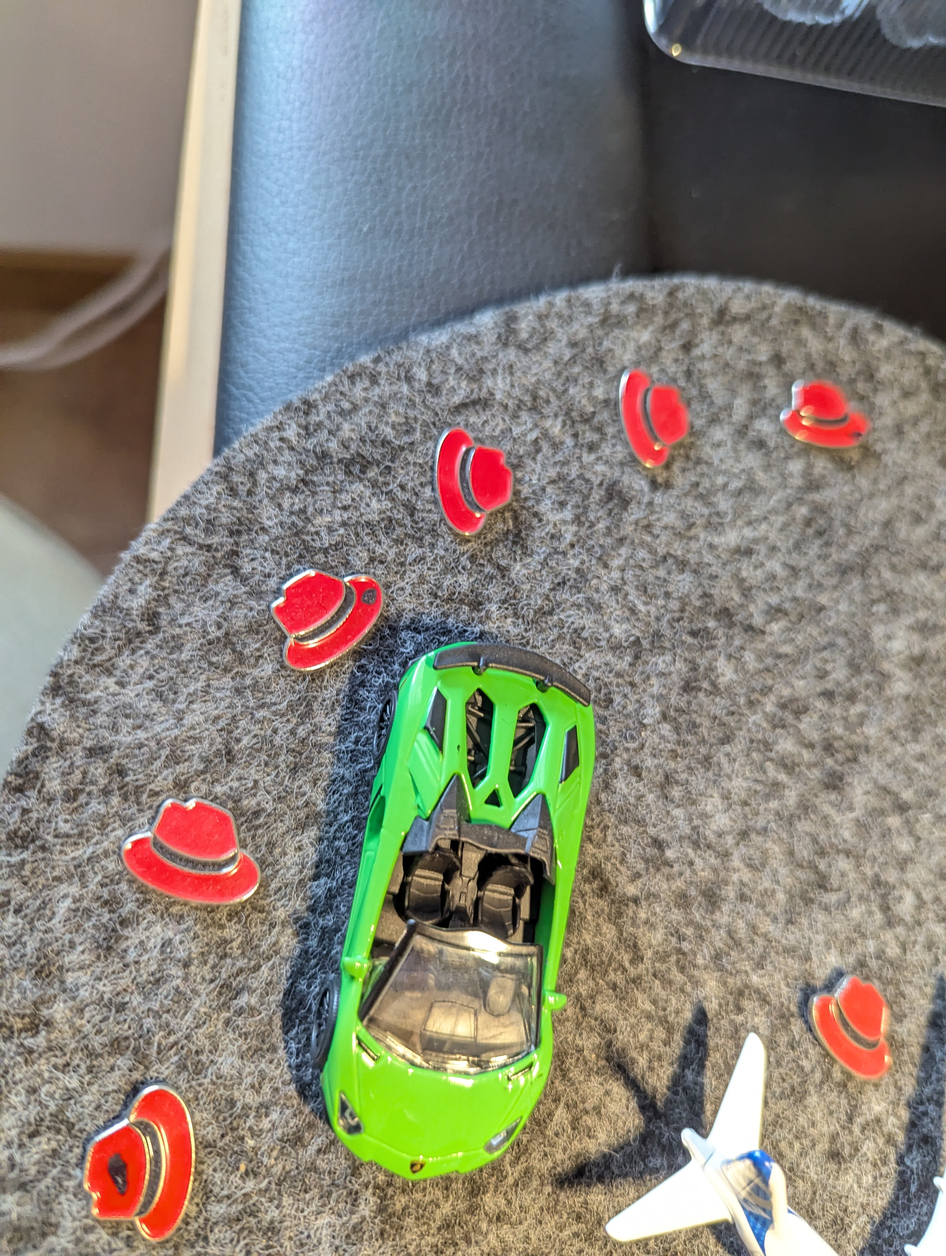Car: (284, 623, 642, 1212)
Red-Hat: (99, 765, 301, 943), (70, 1059, 223, 1247), (252, 550, 394, 692), (799, 954, 926, 1110), (413, 404, 532, 555), (602, 349, 719, 488), (768, 357, 883, 479)
Scratch: (99, 1139, 150, 1220), (353, 574, 396, 622), (836, 421, 877, 455)
